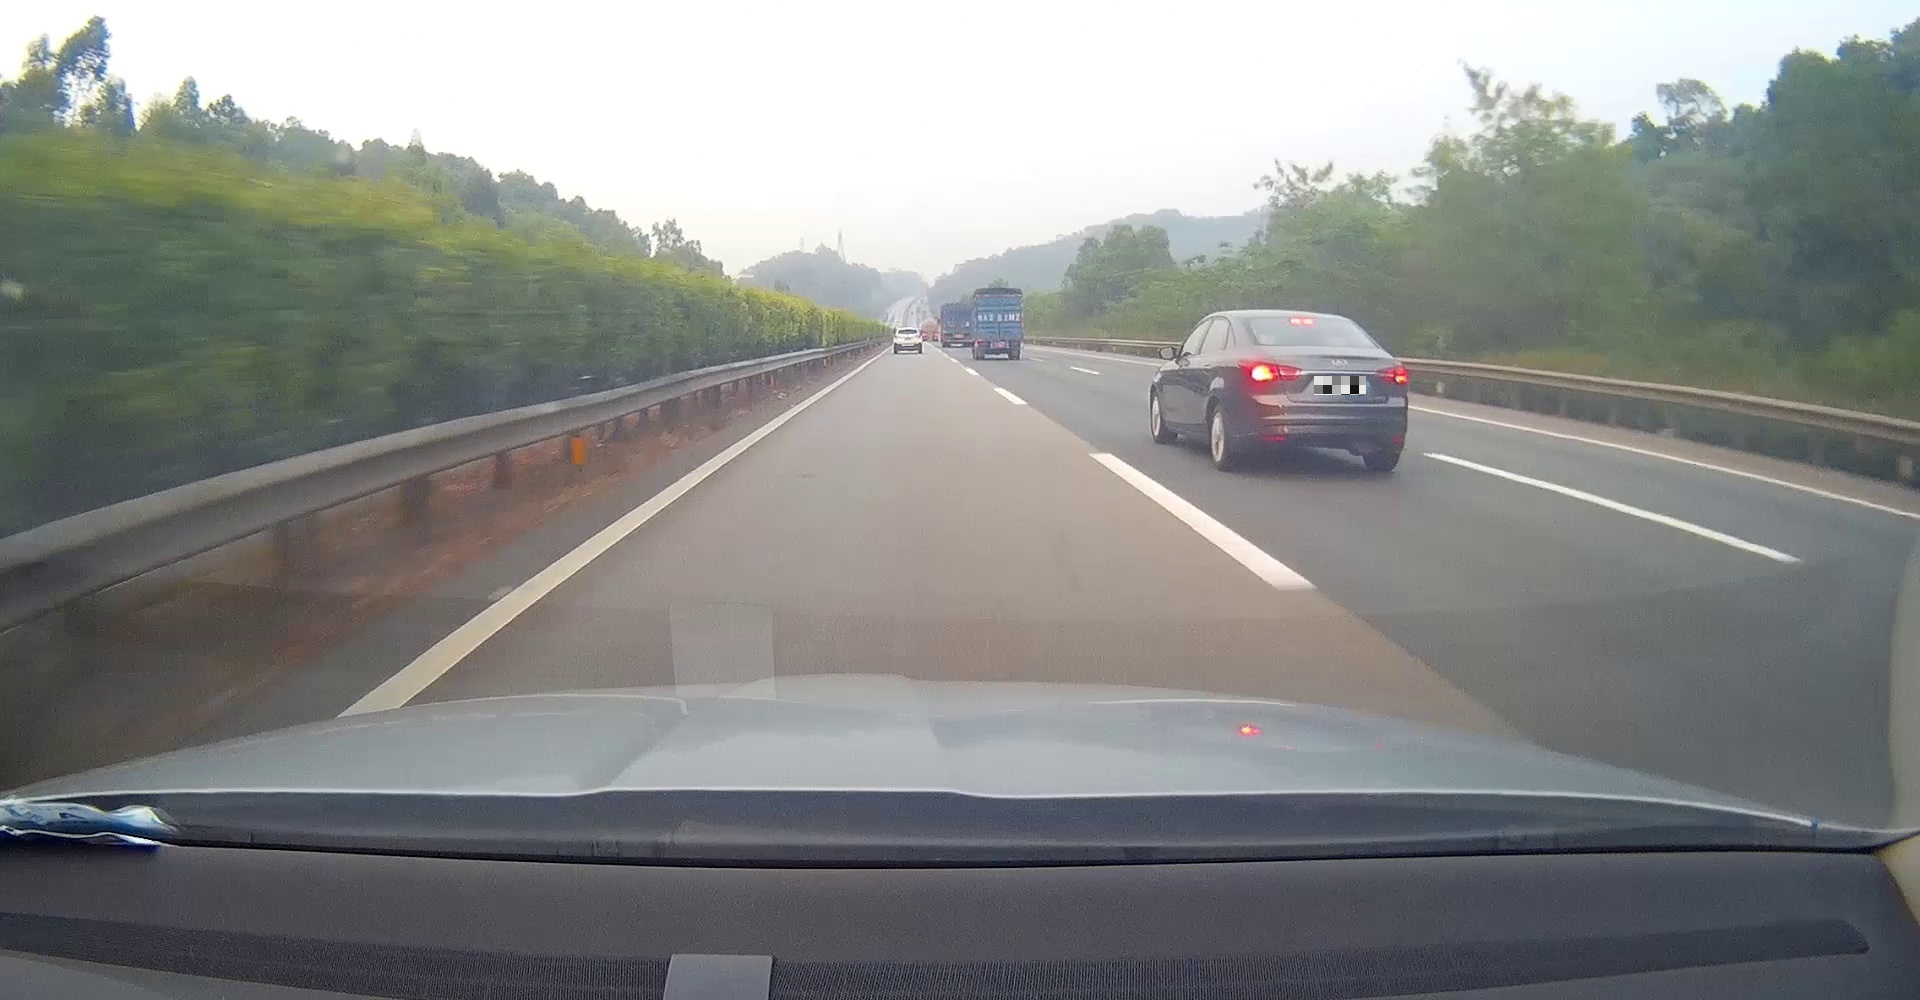L_light: (1239, 360, 1300, 381), (980, 341, 987, 346), (894, 336, 900, 339)
R_light: (1377, 365, 1407, 385), (1010, 341, 1017, 345), (916, 335, 922, 338)
T_light: (1290, 316, 1314, 324), (994, 297, 1003, 299), (904, 329, 910, 331)
day-brake: (1237, 310, 1408, 472)
day-no: (975, 287, 1023, 360), (893, 327, 922, 354)
plate_1: (1314, 376, 1366, 395)
